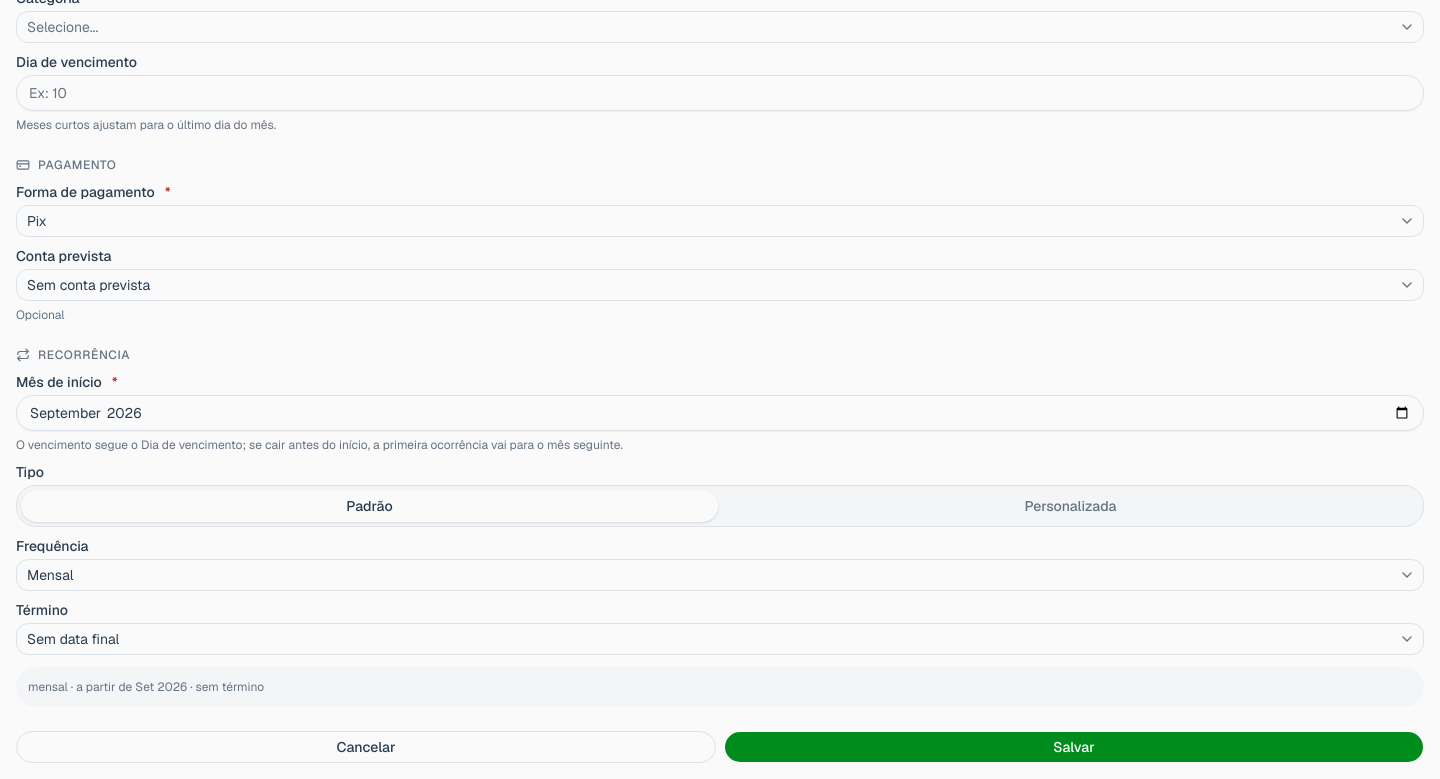
FixedCostForm › mostra erros do schema ao salvar vazio
The image size is (1440, 779).
(page scrolled)
Click the button "Salvar".
click(1074, 747)  # box [724, 731, 1424, 763]
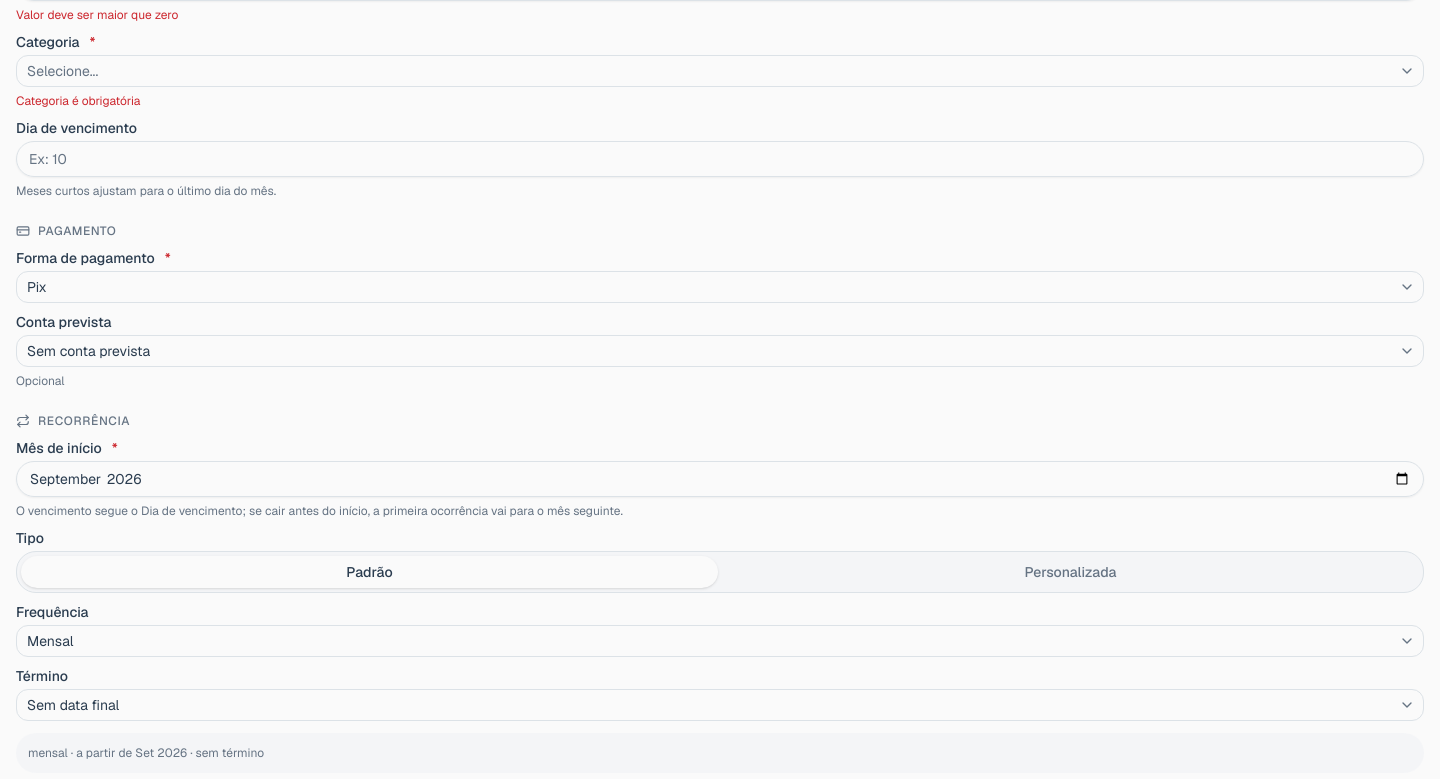
Expected: the text "Valor deve ser maior que zero" is shown, [16, 7, 178, 23]
Expected: the text "Categoria é obrigatória" is shown, [16, 93, 140, 109]
